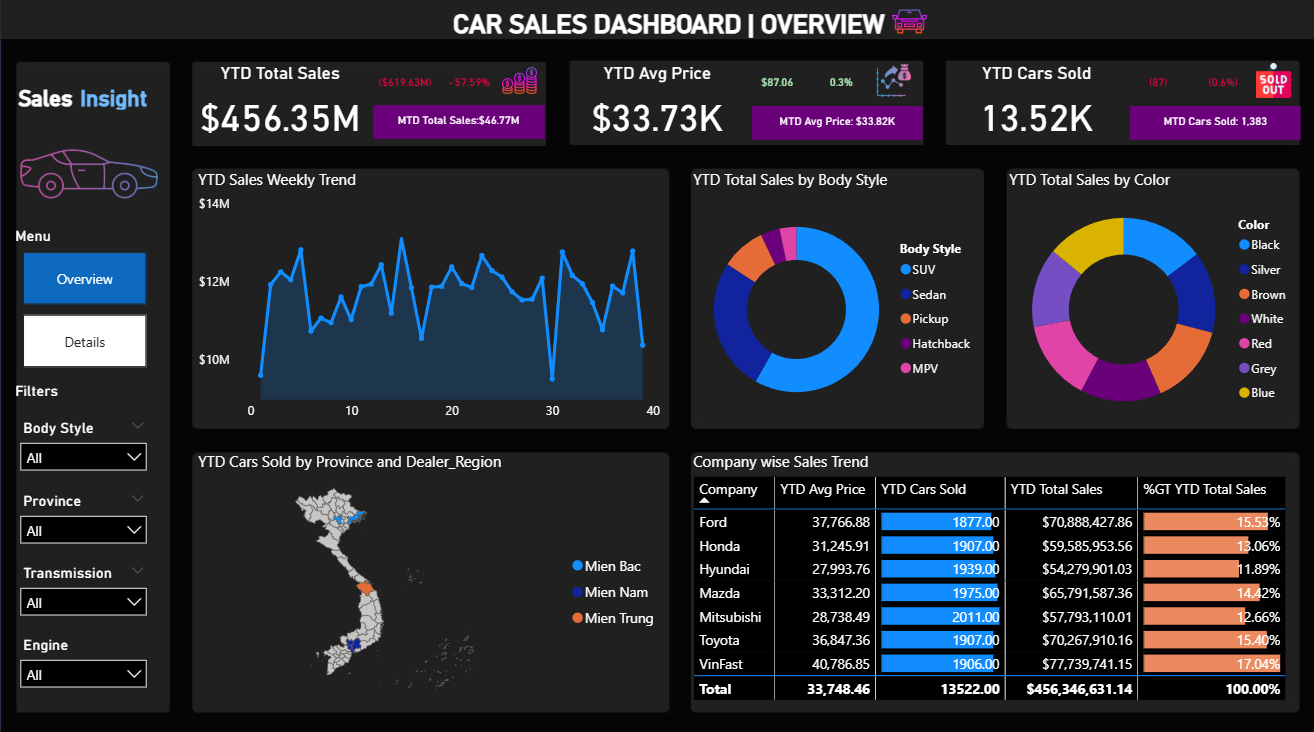

The dashboard page shown, as its layout file describes it:
{"tool":"powerbi","page":{"name":"Overview","canvas":[1280,720],"ordinal":0},"visuals":[{"type":"card","title":"YTD Total Sales","fields":{"Values":["car_data.YTD Total Sales"]},"box":[186.5,64.5,171.5,81.5],"z":0},{"type":"textbox","title":"Sales","box":[12.2,85.6,72.2,27.8],"z":0,"group":"g1"},{"type":"card","title":"YTD Total Sales","fields":{"Values":["car_data.Sales Difference"]},"box":[363,64.5,62.5,41],"z":1000},{"type":"textbox","title":"Insight","box":[72.2,85.6,86.7,27.8],"z":1000,"group":"g1"},{"type":"card","title":"YTD Total Sales","fields":{"Values":["car_data.YoY Sales Growth"]},"box":[425.5,64.5,62.5,41],"z":2000},{"type":"card","fields":{"Values":["car_data.MTD KPI"]},"box":[363,105.5,166.5,32.5],"z":3000},{"type":"card","title":"YTD Avg Price","fields":{"Values":["car_data.Avg Price"]},"box":[553.6,64.5,171.8,81.8],"z":4000},{"type":"card","fields":{"Values":["car_data.MTD Avg Price KPI"]},"box":[731.2,105.6,166.2,32.5],"z":5000},{"type":"card","title":"YTD Total Sales","fields":{"Values":["car_data.Avg Price Diff"]},"box":[724.5,64.5,62.7,40.9],"z":6000},{"type":"card","title":"YTD Total Sales","fields":{"Values":["car_data.YoY Avg Price Growth % Display"]},"box":[787.3,64.5,62.7,40.9],"z":7000},{"type":"card","title":"YTD Cars Sold","fields":{"Values":["car_data.YTD Cars Sold"]},"box":[921.2,64.6,174.2,81.9],"z":8000},{"type":"card","fields":{"Values":["car_data.MTD Cars Sold Display"]},"box":[1098.8,105.6,166.2,32.5],"z":9000},{"type":"card","title":"YTD Total Sales","fields":{"Values":["car_data.Cars Sold Diff Display"]},"box":[1095.5,64.5,62.7,40.9],"z":10000},{"type":"card","title":"YTD Total Sales","fields":{"Values":["car_data.YoY Cars Sold Growth % Display"]},"box":[1158.2,64.5,62.7,40.9],"z":11000},{"type":"lineChart","title":"YTD Sales Weekly Trend","fields":{"Y":["Sum(car_data.Price ($))"],"Category":["Calendar Table.Week"]},"box":[187.8,167.8,462.2,253.3],"z":12000},{"type":"donutChart","fields":{"Category":["car_data.Body Style"],"Y":["car_data.YTD Total Sales"]},"box":[668.9,167.8,288.9,253.3],"z":13000},{"type":"donutChart","fields":{"Y":["car_data.YTD Total Sales"],"Category":["car_data.Color"]},"box":[976.7,167.8,288.9,253.3],"z":14000},{"type":"shapeMap","fields":{"Category":["car_data.Province"],"Value":["car_data.YTD Cars Sold"],"Series":["car_data.Dealer_Region"]},"box":[187.7,441.6,462,252.9],"z":15000},{"type":"tableEx","title":"Company wise Sales Trend","fields":{"Values":["car_data.Company","car_data.YTD Avg Price","car_data.YTD Cars Sold","car_data.YTD Total Sales1","car_data.YTD Total Sales"]},"box":[669,442,596,253],"z":16000},{"type":"textbox","title":"CAR SALES DASHBOARD | OVERVIEW","box":[435.7,10.9,436.7,30.2],"z":17000,"group":"g2"},{"type":"slicer","fields":{"Values":["car_data.Transmission"]},"box":[10,546.7,143.3,70],"z":17000},{"type":"slicer","fields":{"Values":["car_data.Engine"]},"box":[10,616.7,143.3,70],"z":18000},{"type":"slicer","fields":{"Values":["car_data.Body Style"]},"box":[10,405.6,143.3,70],"z":19000},{"type":"slicer","fields":{"Values":["car_data.Province"]},"box":[10,476.7,143.3,70],"z":20000},{"type":"textbox","title":"Filters","box":[10,375.6,150,23.3],"z":21000},{"type":"image","box":[866.2,6.8,36,34],"z":22004,"group":"g2"},{"type":"group","id":"g1","title":"Group 1","box":[12.2,85.6,146.7,27.8],"z":23000},{"type":"textbox","title":"Menu","box":[10,224.4,150,23.3],"z":24000},{"type":"pageNavigator","box":[22.2,247.8,120,112.2],"z":25000},{"type":"image","box":[12.6,105,147.8,134.2],"z":26000},{"type":"image","box":[487.3,64.2,36,34],"z":27000},{"type":"image","box":[851.1,64.2,36,34],"z":27001},{"type":"image","box":[1220.7,64.2,36,34],"z":27002},{"type":"group","id":"g2","title":"Group 2","box":[435.7,6.8,466.9,34],"z":27003}]}

Visuals, with their boxes in screenshot pixels (x1, y1, x2, y2), scaled from the page's 1280x720 canvas onto the 1314x732 screenshot:
"YTD Total Sales" card: (left=191, top=66, right=368, bottom=148)
"Sales" textbox: (left=13, top=87, right=87, bottom=115)
"YTD Total Sales" card: (left=373, top=66, right=437, bottom=107)
"Insight" textbox: (left=74, top=87, right=163, bottom=115)
"YTD Total Sales" card: (left=437, top=66, right=501, bottom=107)
card - car_data.MTD KPI: (left=373, top=107, right=544, bottom=140)
"YTD Avg Price" card: (left=568, top=66, right=745, bottom=149)
card - car_data.MTD Avg Price KPI: (left=751, top=107, right=921, bottom=140)
"YTD Total Sales" card: (left=744, top=66, right=808, bottom=107)
"YTD Total Sales" card: (left=808, top=66, right=873, bottom=107)
"YTD Cars Sold" card: (left=946, top=66, right=1124, bottom=149)
card - car_data.MTD Cars Sold Display: (left=1128, top=107, right=1299, bottom=140)
"YTD Total Sales" card: (left=1125, top=66, right=1189, bottom=107)
"YTD Total Sales" card: (left=1189, top=66, right=1253, bottom=107)
"YTD Sales Weekly Trend" lineChart: (left=193, top=171, right=667, bottom=428)
donutChart - car_data.Body Style x car_data.YTD Total Sales: (left=687, top=171, right=983, bottom=428)
donutChart - car_data.YTD Total Sales x car_data.Color: (left=1003, top=171, right=1299, bottom=428)
shapeMap - car_data.Province x car_data.YTD Cars Sold: (left=193, top=449, right=667, bottom=706)
"Company wise Sales Trend" tableEx: (left=687, top=449, right=1299, bottom=707)
"CAR SALES DASHBOARD | OVERVIEW" textbox: (left=447, top=11, right=896, bottom=42)
slicer - car_data.Transmission: (left=10, top=556, right=157, bottom=627)
slicer - car_data.Engine: (left=10, top=627, right=157, bottom=698)
slicer - car_data.Body Style: (left=10, top=412, right=157, bottom=484)
slicer - car_data.Province: (left=10, top=485, right=157, bottom=556)
"Filters" textbox: (left=10, top=382, right=164, bottom=406)
image: (left=889, top=7, right=926, bottom=41)
"Group 1" group: (left=13, top=87, right=163, bottom=115)
"Menu" textbox: (left=10, top=228, right=164, bottom=252)
pageNavigator: (left=23, top=252, right=146, bottom=366)
image: (left=13, top=107, right=165, bottom=243)
image: (left=500, top=65, right=537, bottom=100)
image: (left=874, top=65, right=911, bottom=100)
image: (left=1253, top=65, right=1290, bottom=100)
"Group 2" group: (left=447, top=7, right=927, bottom=41)
